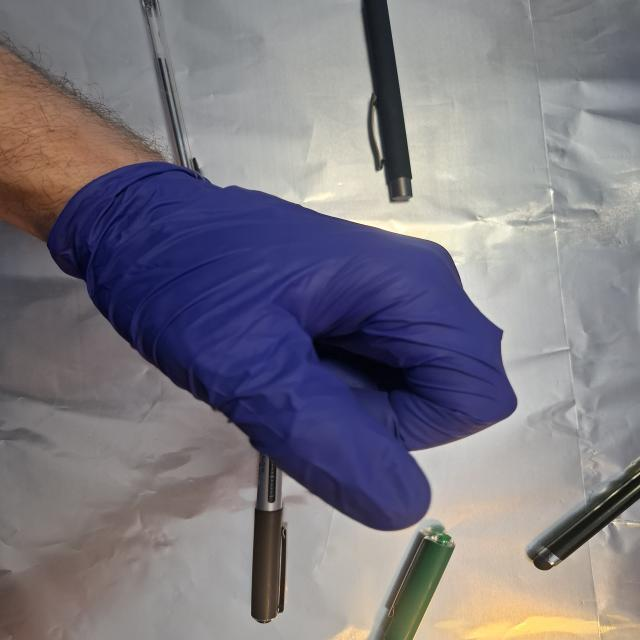glove_on: (53, 156, 520, 534)
